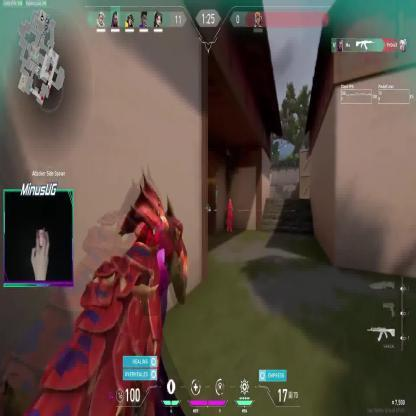enemy: (226, 198, 234, 233)
enemy_head: (228, 198, 232, 204)
